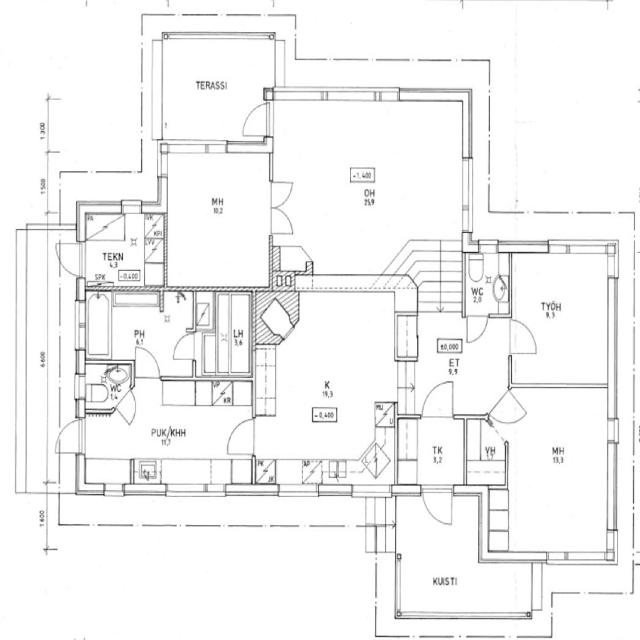door: (400, 311, 506, 416), (418, 375, 460, 423), (419, 482, 457, 530), (222, 412, 260, 460), (270, 176, 296, 238), (506, 313, 541, 359), (236, 99, 272, 139), (54, 234, 86, 278), (132, 342, 164, 385), (52, 417, 84, 459), (496, 389, 528, 429), (461, 311, 491, 347), (170, 328, 198, 364), (117, 390, 138, 424), (58, 146, 80, 172)
window: (268, 82, 409, 106), (603, 429, 625, 539), (159, 478, 236, 501), (542, 545, 614, 569), (456, 146, 478, 224), (160, 134, 235, 156), (72, 295, 90, 355), (602, 414, 624, 459), (99, 480, 128, 502), (119, 197, 144, 214)
zone: (272, 94, 469, 276), (254, 287, 402, 493), (508, 0, 639, 217), (499, 380, 615, 557), (78, 377, 255, 492), (390, 491, 532, 622), (160, 148, 274, 291), (508, 247, 616, 393), (399, 315, 504, 420), (90, 289, 191, 368), (81, 210, 161, 292), (200, 287, 253, 378), (78, 355, 134, 414), (464, 250, 511, 318), (463, 416, 507, 487)
